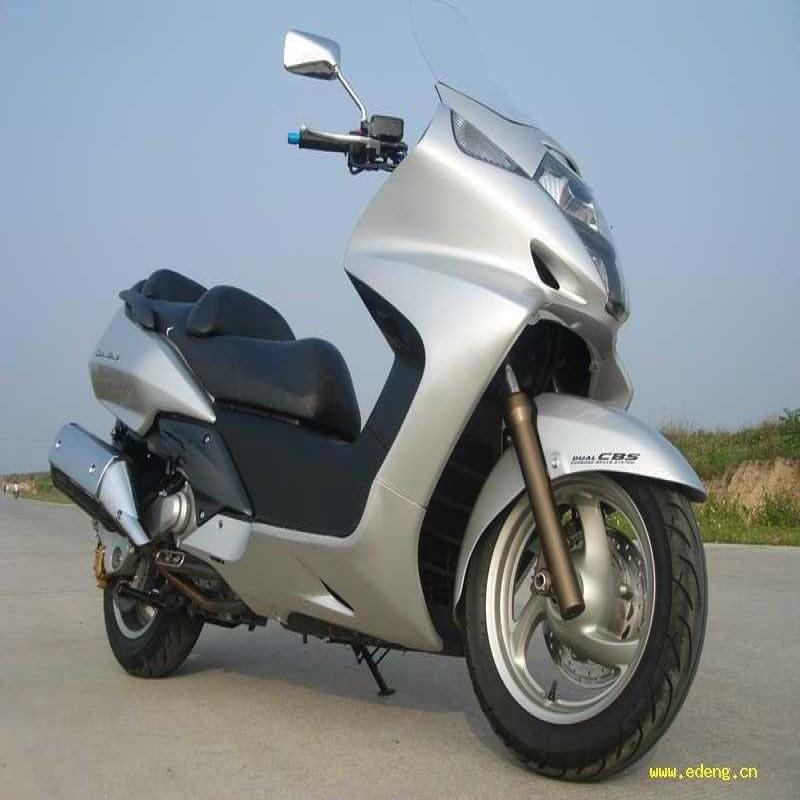bike: (76, 17, 800, 755)
